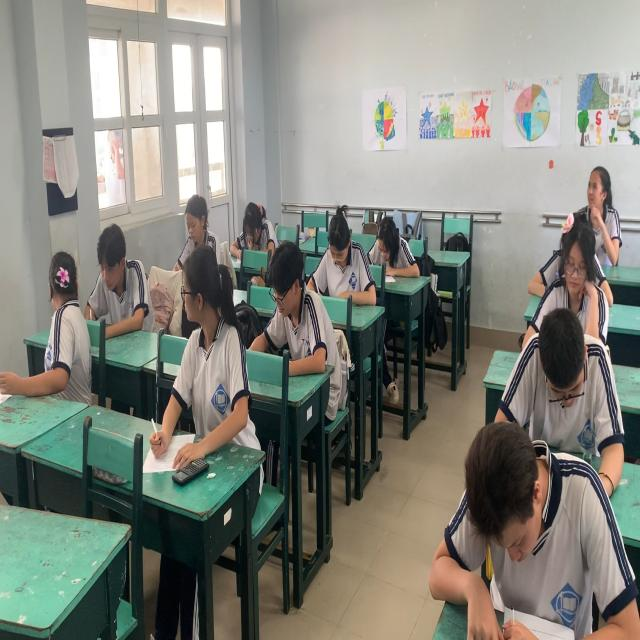cheating: (176, 243, 243, 440), (43, 243, 88, 395)
not_cheating: (438, 385, 611, 637), (260, 237, 328, 392), (526, 320, 594, 427), (322, 206, 368, 309), (92, 222, 136, 316), (560, 215, 594, 306), (174, 182, 216, 247), (230, 198, 279, 243), (582, 161, 612, 219), (376, 202, 401, 270)
